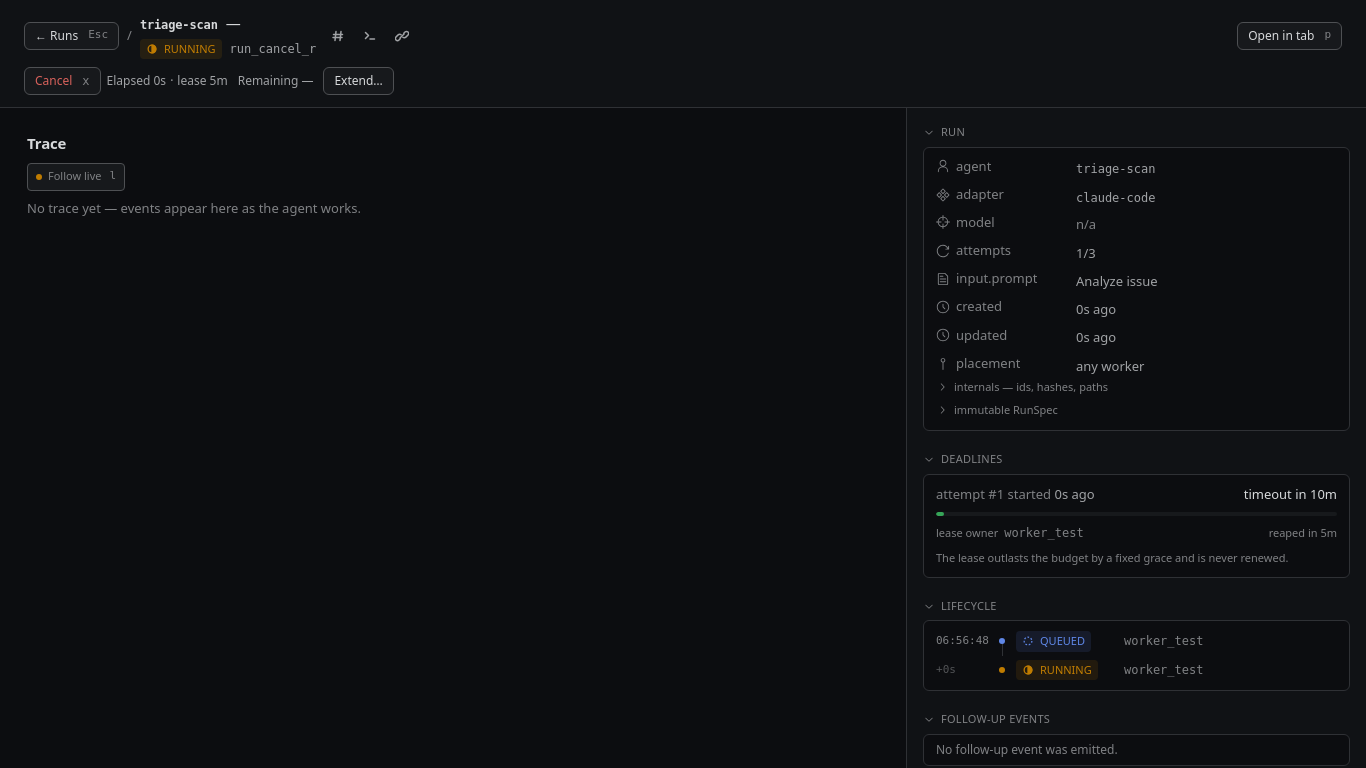
it: RunFull cancel dialog (WM-144) › a simulated 409 on cancel shows a persistent inline message in the dialog
This screenshot has width=1366, height=768.
Click the button "Cancel x": (62, 81) [24,67,101,95]
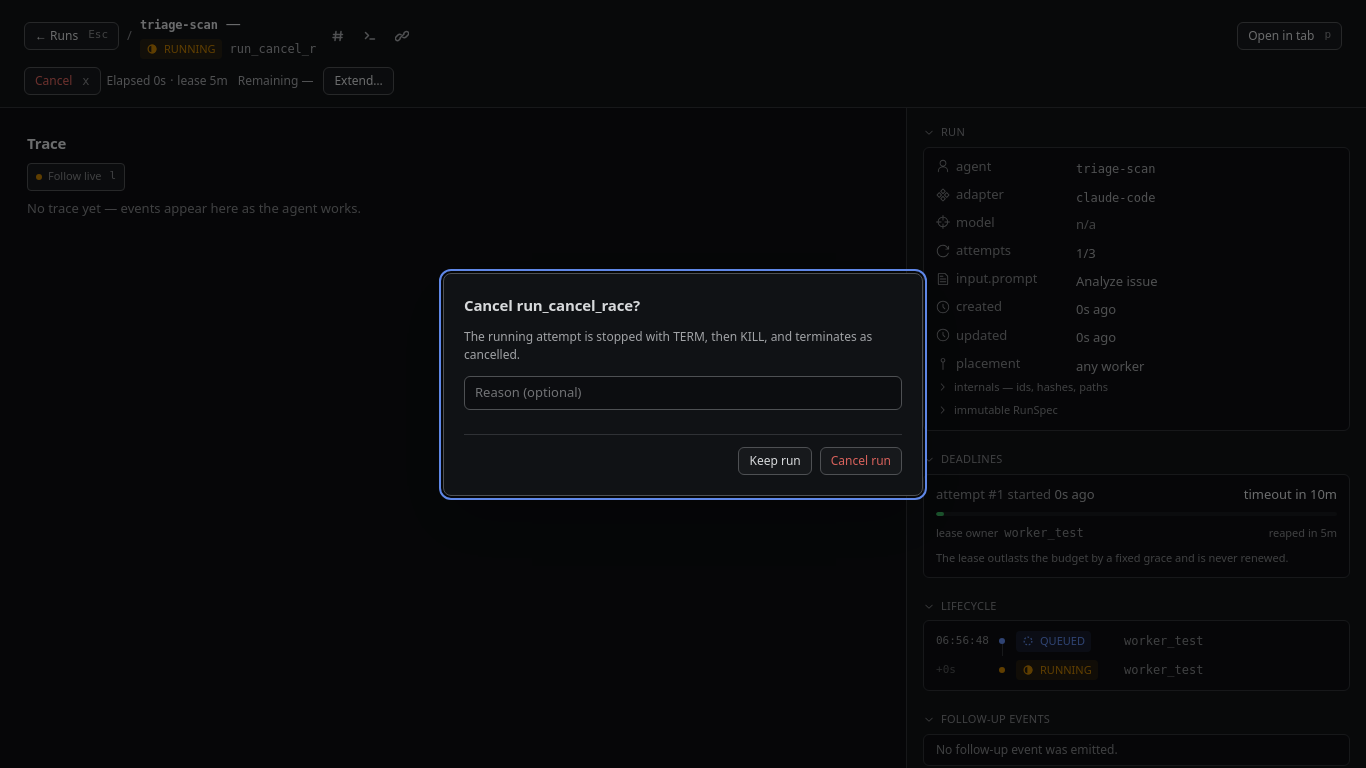
Expected: the text "illegal transition CANCELLED → CANCELLED" is not shown
Click the button "Cancel run": (861, 460) [820,446,902,474]
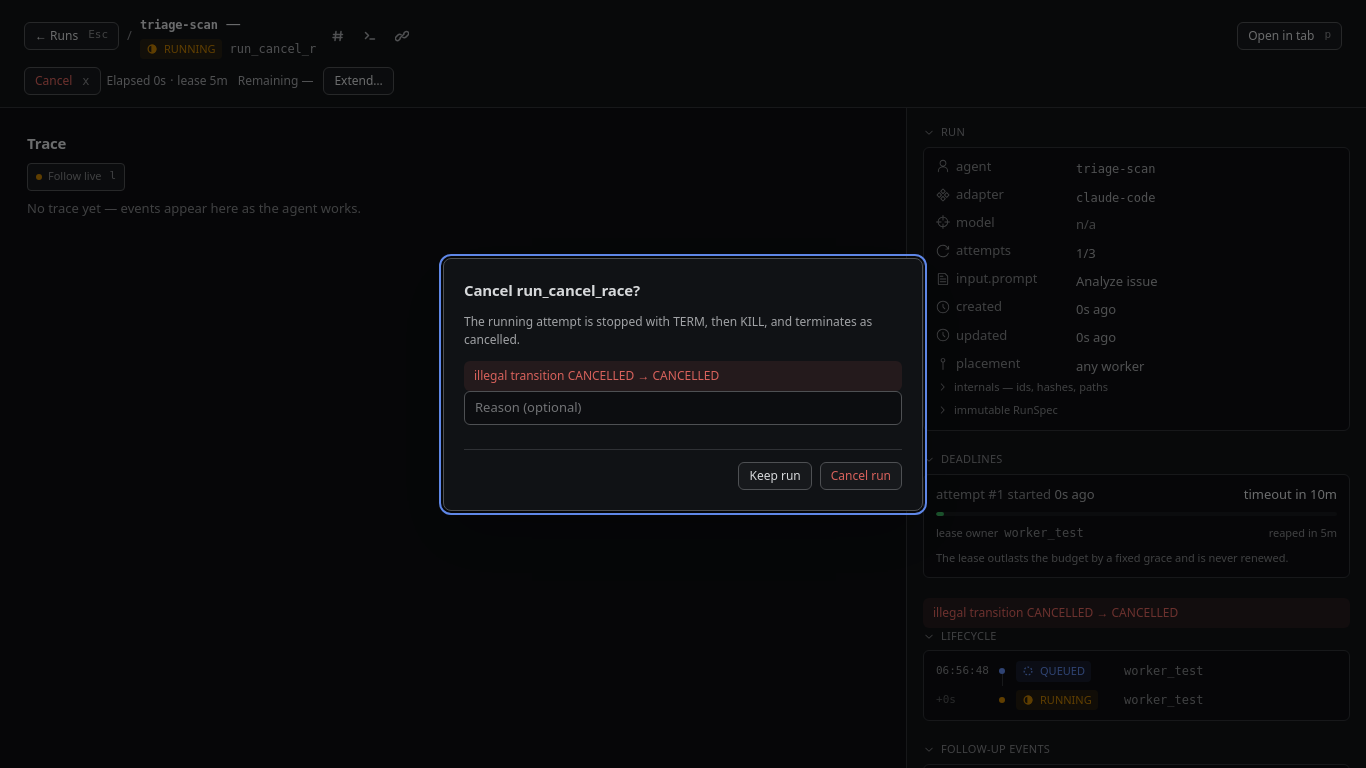
Result: the dialog is shown at [443,258,923,510]
Result: the text "illegal transition CANCELLED → CANCELLED" is shown at [464,361,902,391]
